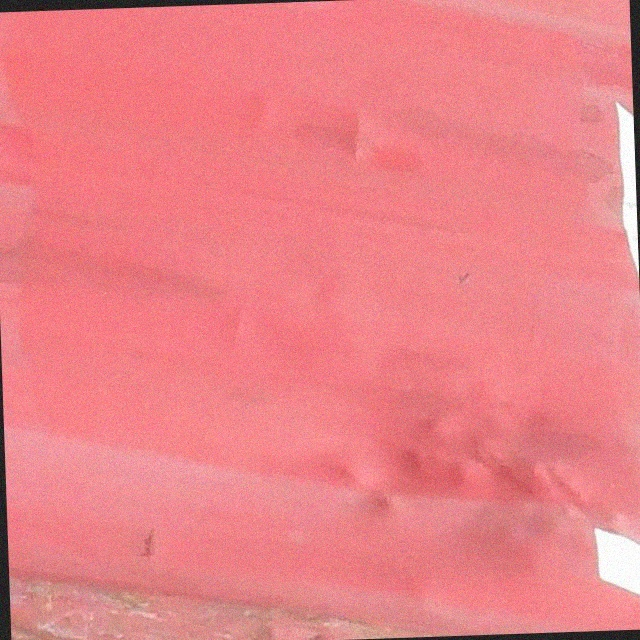Dent: (330, 247, 640, 640)
